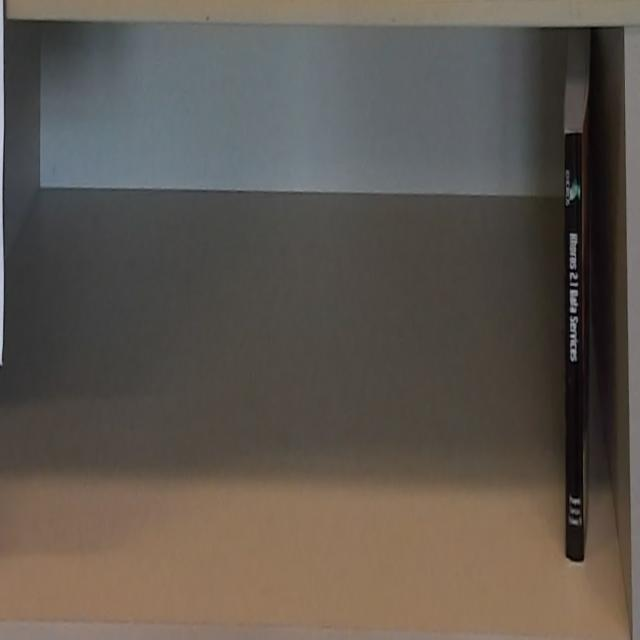Book Spine: (564, 133, 583, 563)
